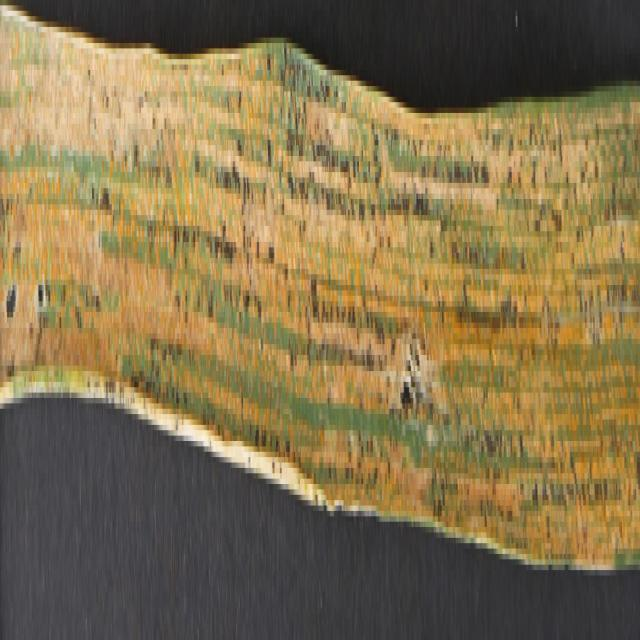leaf rust: (0, 5, 640, 537)
